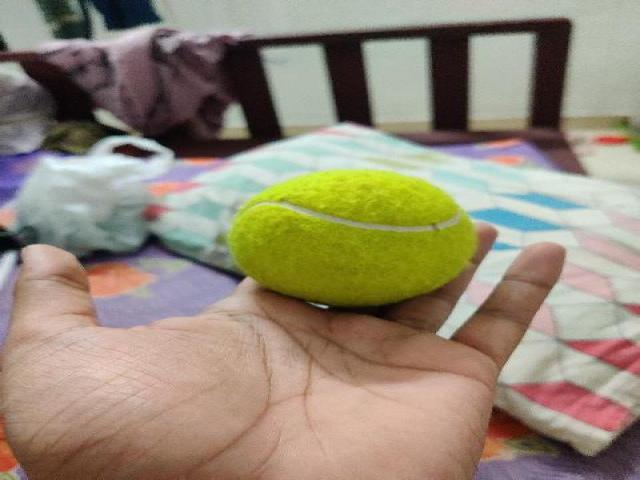tennis-ball: (226, 168, 478, 306)
